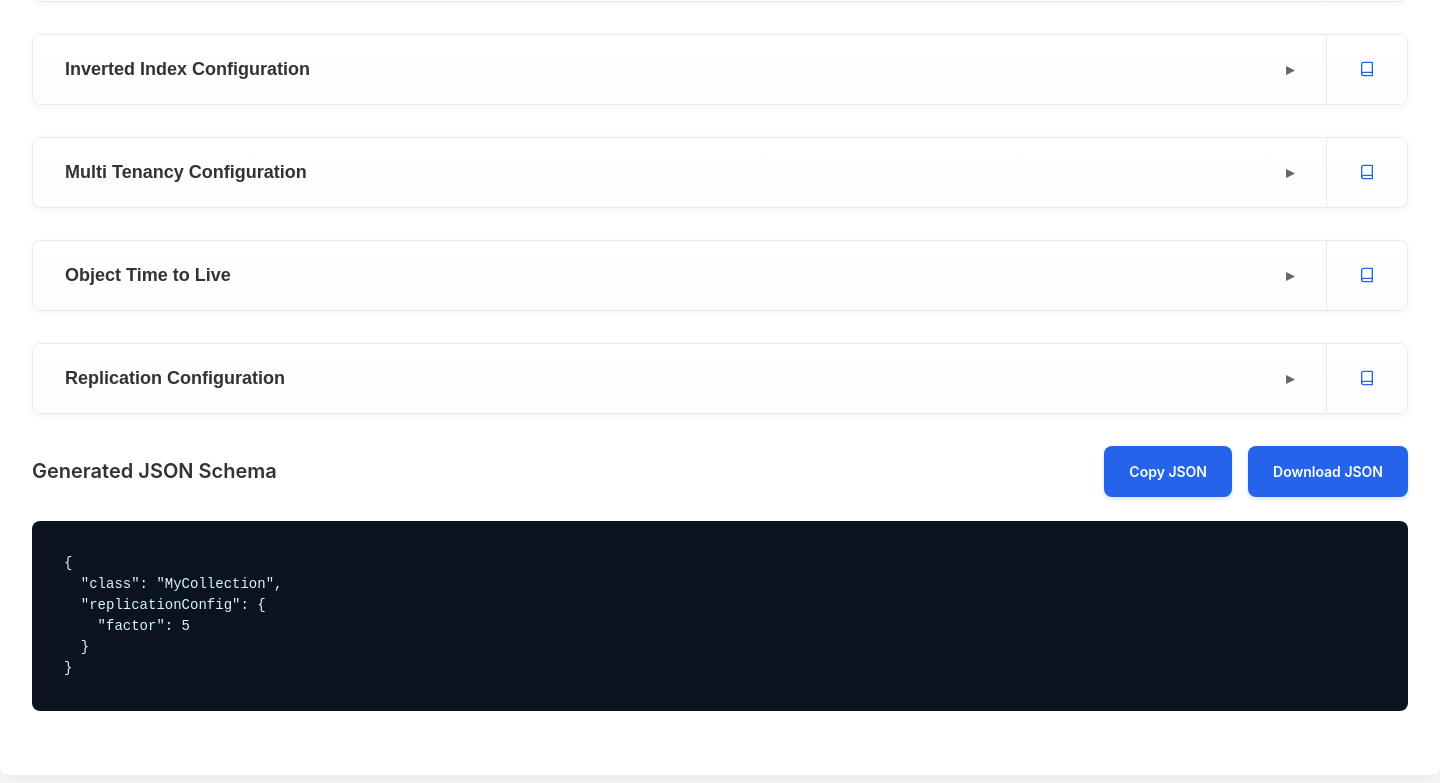
Collection Component - Replication Configuration › should respect nodesNumber as maximum replication factor
(page scrolled)
Check: the text with class "json-block" is shown, box [32,521,1408,711]
# Click the Replication Configuration toggle to expand it
Click the button "Replication Configuration ▸": (175,378) [33,344,1326,413]
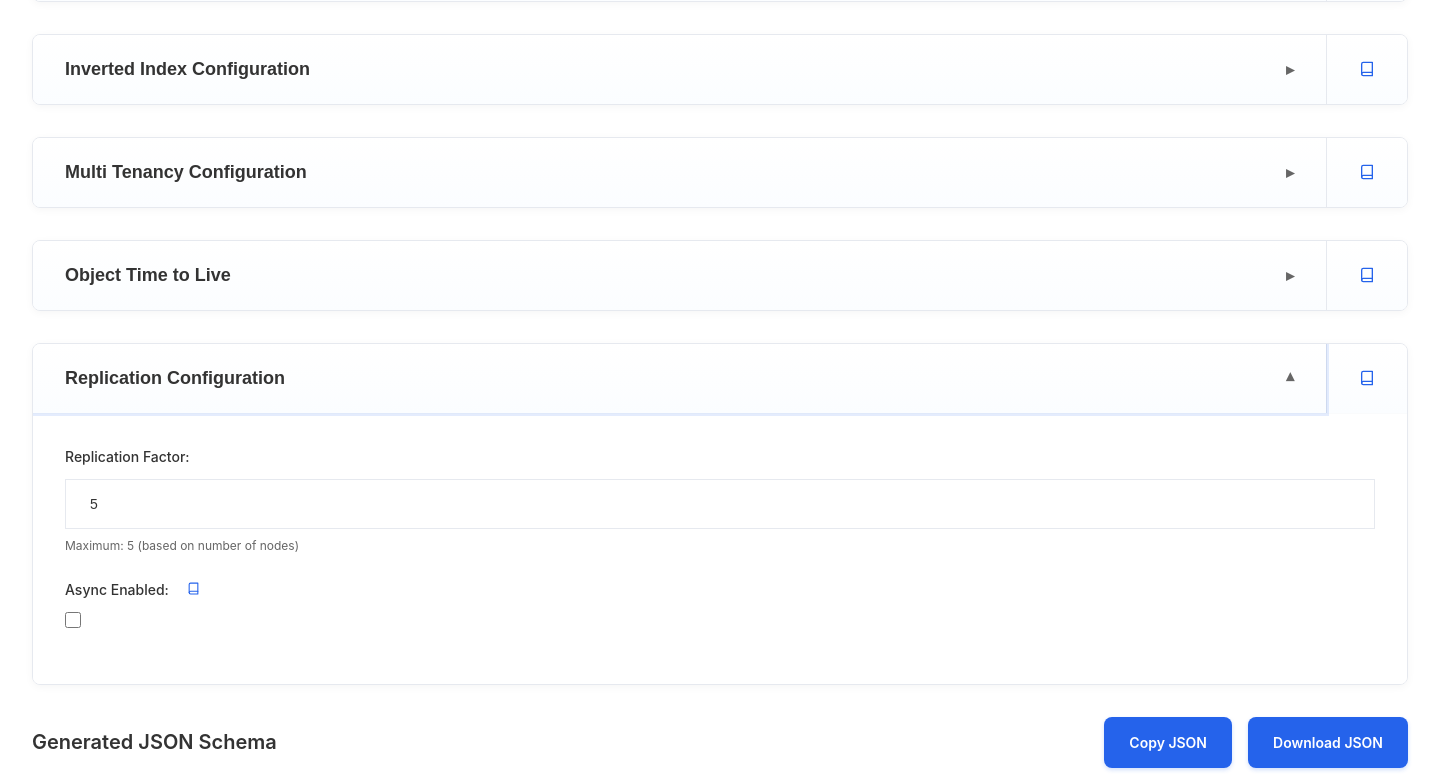
Check: the number field is shown, box [65,479,1375,529]
